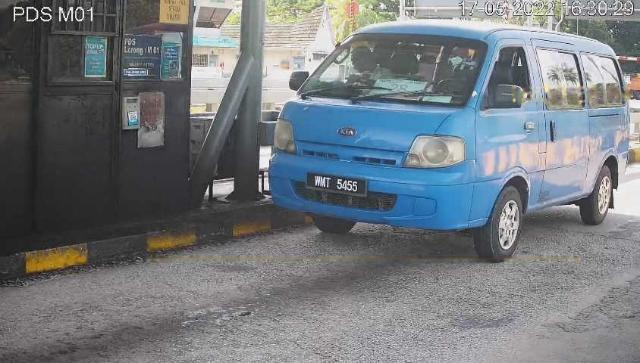License_Plate: (306, 172, 370, 201)
van: (271, 22, 631, 263)
